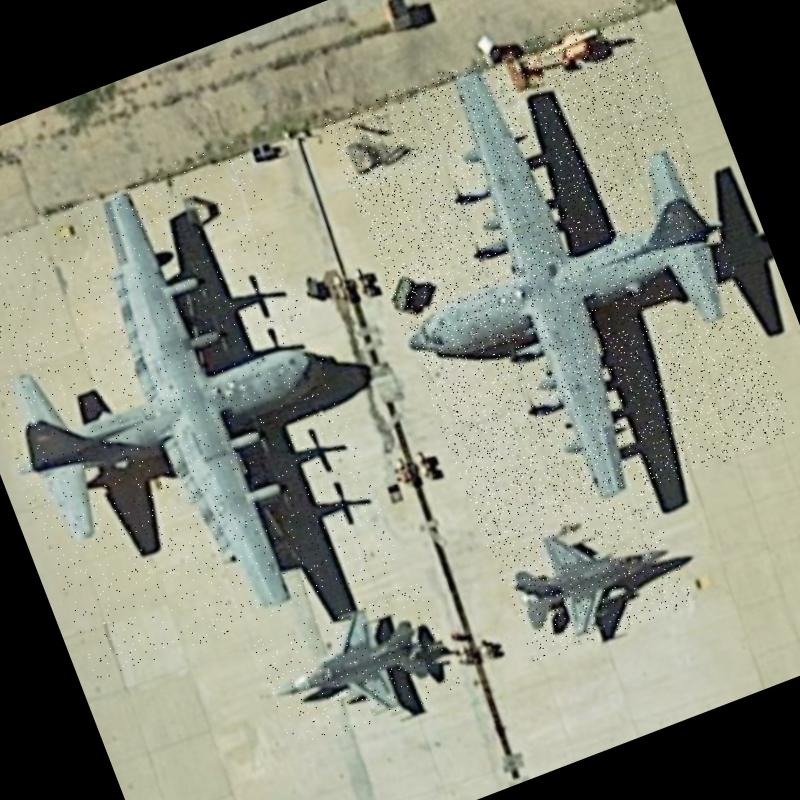A2: (321, 0, 798, 551), (0, 135, 402, 683)
A5: (487, 478, 695, 664), (252, 578, 462, 752)
